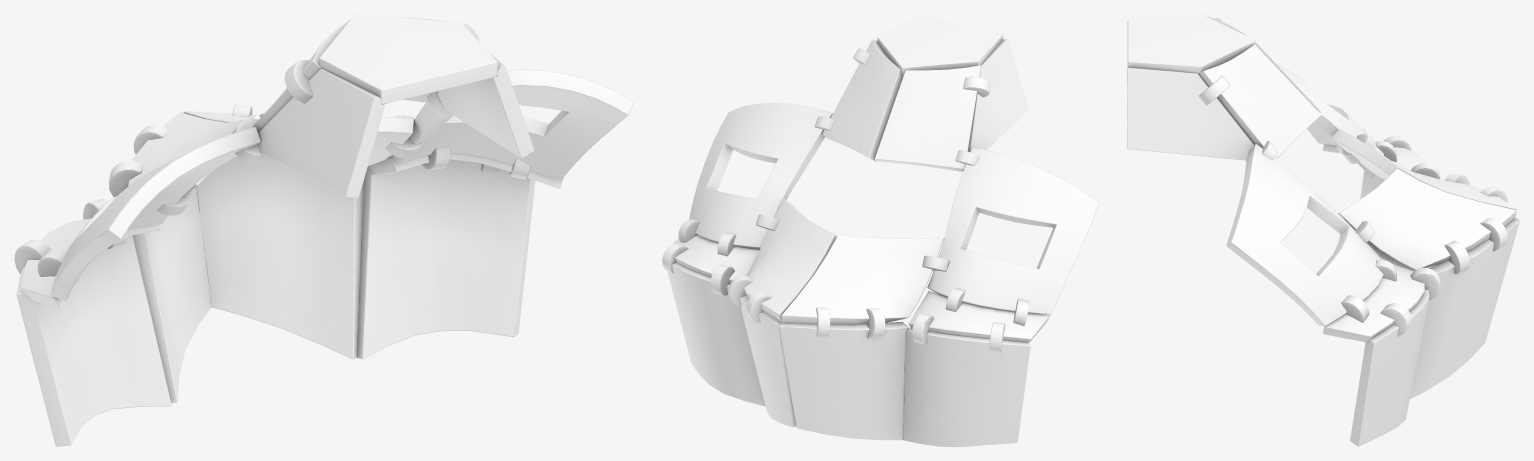
The model's file is Armor.glb.
The picture shows the model from 3 angles, left to right: view 1: azimuth 30°, elevation 25°; view 2: azimuth 150°, elevation 25°; view 3: azimuth 270°, elevation 25°; orthographic projection. The views are drawn at different scales.
Visible parts, largest first — view 1: Armot; view 2: Armot; view 3: Armot.
Boxes of the visible parts, x1,y1,x2,y2 form: Armot: (14,14,633,446); Armot: (662,14,1098,446); Armot: (1127,14,1519,446).
Bounding box in the file's own units: 3.27 × 2.57 × 2.78.
Materials: 1 (1 with a texture image).
